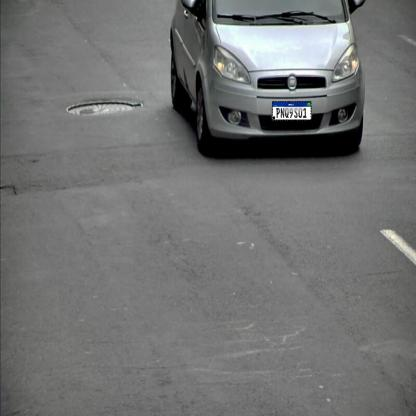PlacaM: (272, 101, 311, 121)
